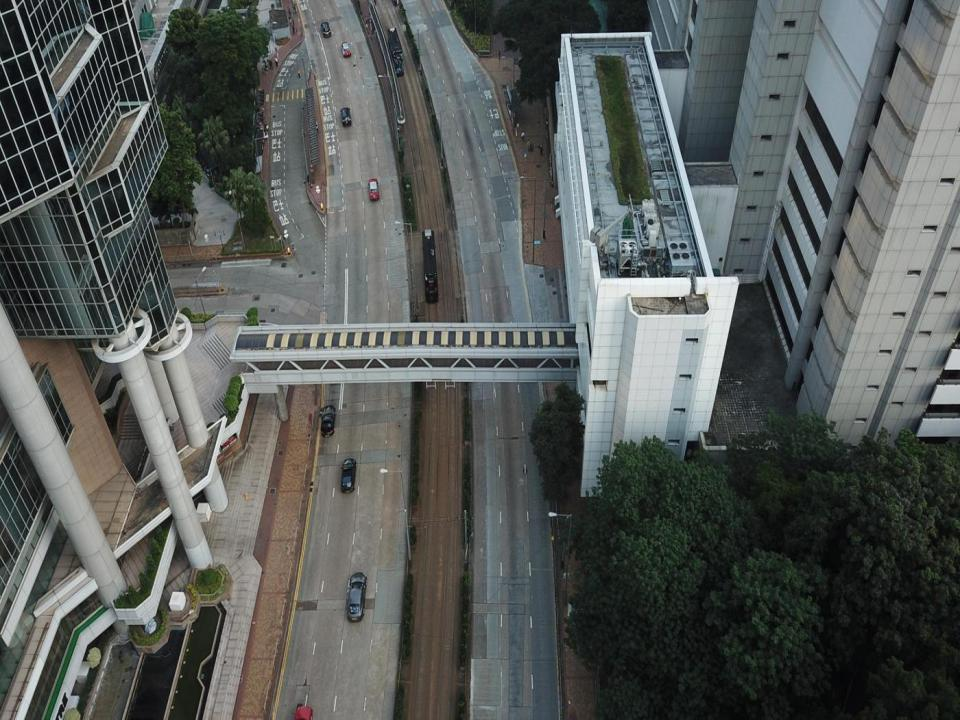bus: (422, 228, 440, 304), (386, 24, 403, 76)
car: (346, 571, 368, 621), (339, 457, 356, 491), (322, 401, 334, 437), (368, 175, 381, 204), (340, 106, 352, 126), (321, 20, 332, 38), (341, 41, 352, 59)
